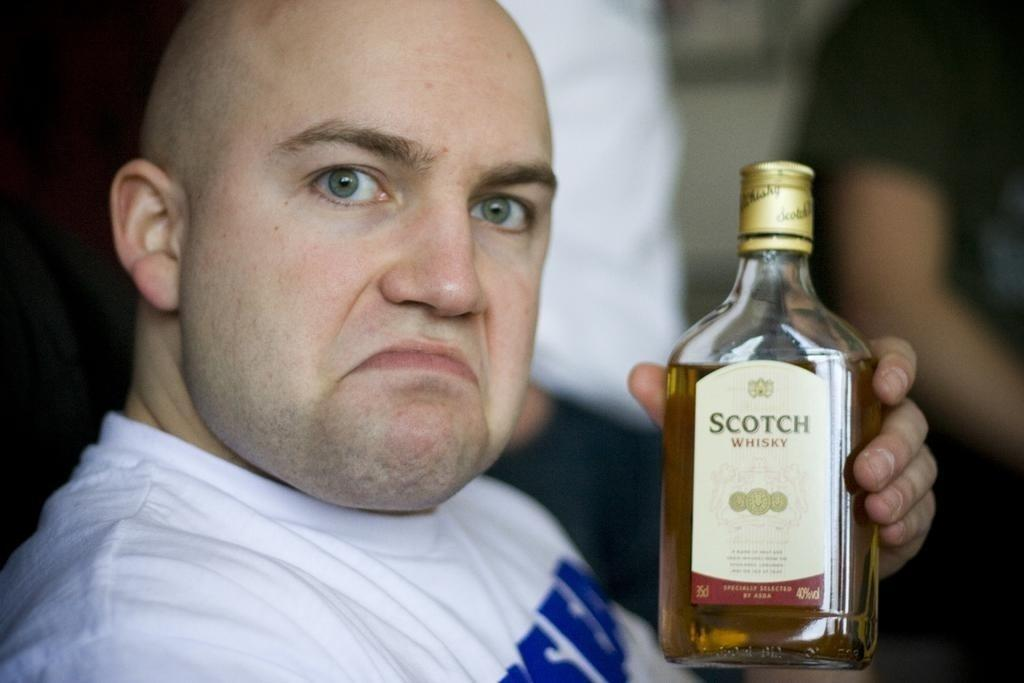bottle-glass: (651, 153, 895, 672)
